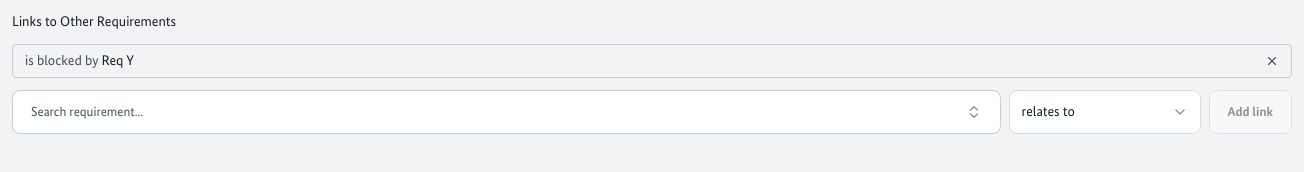
RequirementDependenciesSection › blocked_by dep remove button stages removal with correct direction
Click the button named "Remove dependency to Req Y" at (1272,61), box x1=1265 y1=54 x2=1279 y2=68
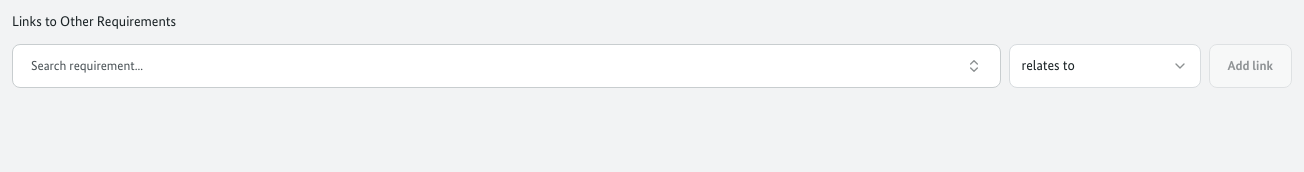
Expected: the text "Req Y" is gone
